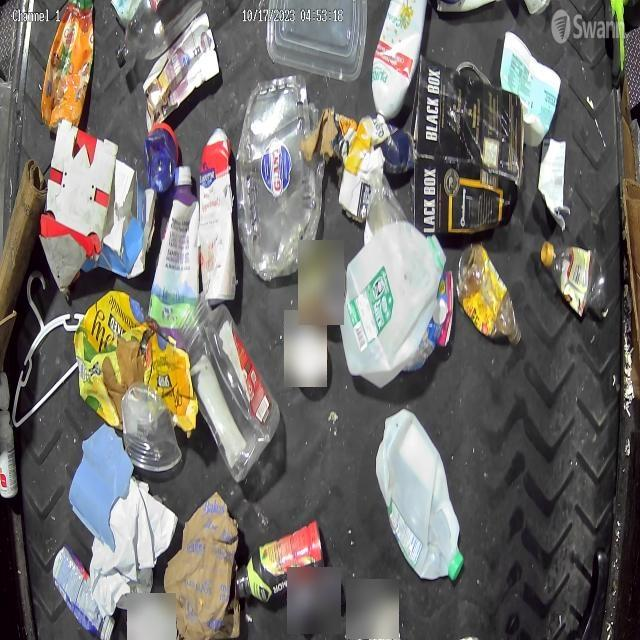milk_jug: (339, 224, 446, 388), (374, 408, 464, 587)
plastic_bottle: (458, 246, 524, 349), (114, 0, 202, 69), (540, 244, 608, 316)
